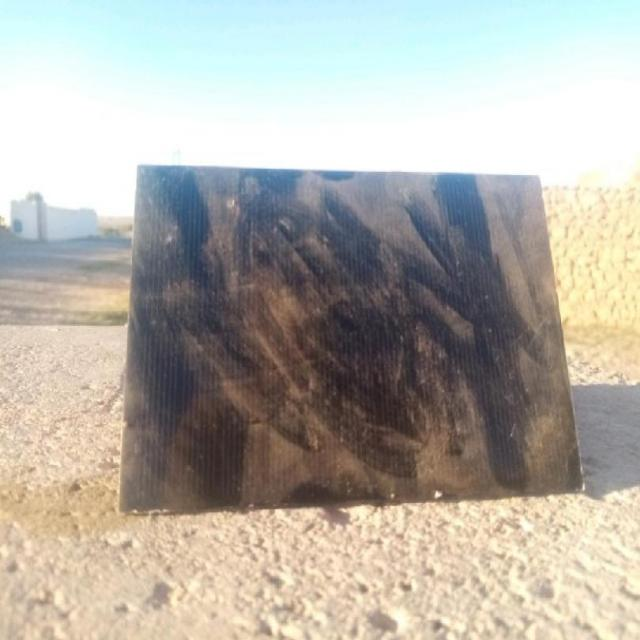faulty: (128, 164, 558, 496)
